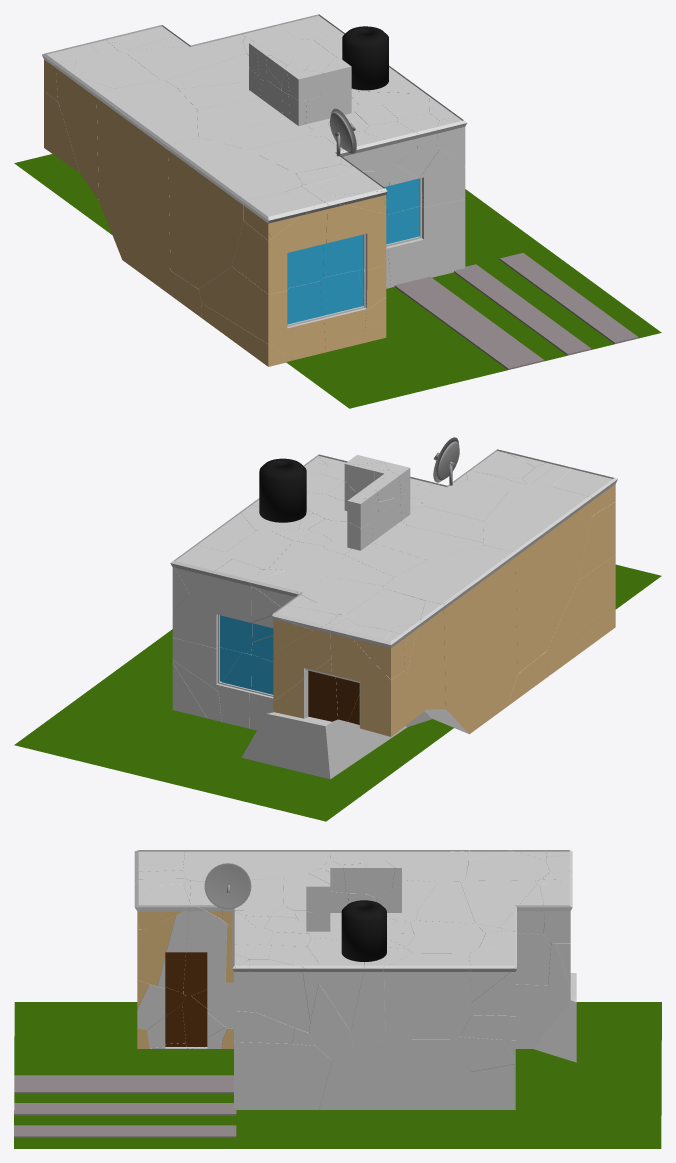
File: casa_0_cracked.glb
3 renders of one model, top to bottom at view 1: azimuth 30°, elevation 25°; view 2: azimuth 150°, elevation 25°; view 3: azimuth 270°, elevation 25°, orthographic. The views are drawn at different scales.
Visible parts, largest first — view 1: Terreno_Infonativ_mod_0.003, Casa_Infonavit_mod_0_cell.040, Casa_Infonavit_mod_0_cell.099, Casa_Infonavit_mod_0_cell.063, Casa_Infonavit_mod_0_cell.061, Casa_Infonavit_mod_0_cell.090, Casa_Infonavit_mod_0_cell.015, Casa_Infonavit_mod_0_cell.080, Casa_Infonavit_mod_0_cell.074, Casa_Infonavit_mod_0_cell.017, Casa_Infonavit_mod_0_cell.045, Casa_Infonavit_mod_0_cell.096 (+36 smaller); view 2: Terreno_Infonativ_mod_0.003, Casa_Infonavit_mod_0_cell.040, Casa_Infonavit_mod_0_cell.099, Casa_Infonavit_mod_0_cell.060, Casa_Infonavit_mod_0_cell.043, Casa_Infonavit_mod_0_cell.080, Casa_Infonavit_mod_0_cell.078, Casa_Infonavit_mod_0_cell.074, Casa_Infonavit_mod_0_cell.063, Rotoplas_CI_0.008, Casa_Infonavit_mod_0_cell.045, Casa_Infonavit_mod_0_cell.075 (+35 smaller); view 3: Terreno_Infonativ_mod_0.003, Casa_Infonavit_mod_0_cell.072, Casa_Infonavit_mod_0_cell.016, Casa_Infonavit_mod_0_cell.090, Casa_Infonavit_mod_0_cell.021, Casa_Infonavit_mod_0_cell.040, Casa_Infonavit_mod_0_cell.056, Casa_Infonavit_mod_0_cell.080, Casa_Infonavit_mod_0_cell.088, Rotoplas_CI_0.008, Casa_Infonavit_mod_0_cell.037, Casa_Infonavit_mod_0_cell.058 (+43 smaller).
Boxes of the visible parts, box(x1,y1,x2,y2) form: Terreno_Infonativ_mod_0.003: box(14, 154, 661, 408); Casa_Infonavit_mod_0_cell.040: box(167, 138, 302, 288); Casa_Infonavit_mod_0_cell.099: box(95, 92, 170, 287); Casa_Infonavit_mod_0_cell.063: box(199, 267, 325, 359); Casa_Infonavit_mod_0_cell.061: box(232, 186, 328, 294); Casa_Infonavit_mod_0_cell.090: box(386, 199, 465, 287); Casa_Infonavit_mod_0_cell.015: box(301, 184, 386, 277); Casa_Infonavit_mod_0_cell.080: box(97, 79, 198, 149); Casa_Infonavit_mod_0_cell.074: box(60, 75, 113, 199); Casa_Infonavit_mod_0_cell.017: box(320, 270, 366, 352); Casa_Infonavit_mod_0_cell.045: box(197, 80, 282, 138); Casa_Infonavit_mod_0_cell.096: box(126, 42, 246, 80); Terreno_Infonativ_mod_0.003: box(14, 564, 661, 821); Casa_Infonavit_mod_0_cell.040: box(483, 483, 591, 673); Casa_Infonavit_mod_0_cell.099: box(425, 557, 517, 734); Casa_Infonavit_mod_0_cell.060: box(241, 712, 407, 779); Casa_Infonavit_mod_0_cell.043: box(172, 559, 261, 654); Casa_Infonavit_mod_0_cell.080: box(383, 545, 516, 604); Casa_Infonavit_mod_0_cell.078: box(348, 658, 426, 736); Casa_Infonavit_mod_0_cell.074: box(406, 601, 445, 709); Casa_Infonavit_mod_0_cell.063: box(546, 555, 615, 660); Rotoplas_CI_0.008: box(259, 458, 306, 522); Casa_Infonavit_mod_0_cell.045: box(372, 503, 484, 559); Casa_Infonavit_mod_0_cell.075: box(273, 614, 346, 721); Terreno_Infonativ_mod_0.003: box(14, 1002, 661, 1148); Casa_Infonavit_mod_0_cell.072: box(319, 1039, 471, 1109); Casa_Infonavit_mod_0_cell.016: box(383, 953, 471, 1039); Casa_Infonavit_mod_0_cell.090: box(234, 1041, 332, 1109); Casa_Infonavit_mod_0_cell.021: box(183, 880, 227, 995); Casa_Infonavit_mod_0_cell.040: box(183, 850, 330, 881); Casa_Infonavit_mod_0_cell.056: box(249, 959, 310, 1032); Casa_Infonavit_mod_0_cell.080: box(330, 850, 468, 881); Casa_Infonavit_mod_0_cell.088: box(351, 947, 412, 1048); Rotoplas_CI_0.008: box(341, 900, 386, 961); Casa_Infonavit_mod_0_cell.037: box(515, 984, 570, 1048); Casa_Infonavit_mod_0_cell.058: box(307, 938, 353, 1060).
Bounding box in the file's own units: 4.83 × 2.8 × 8.49.
